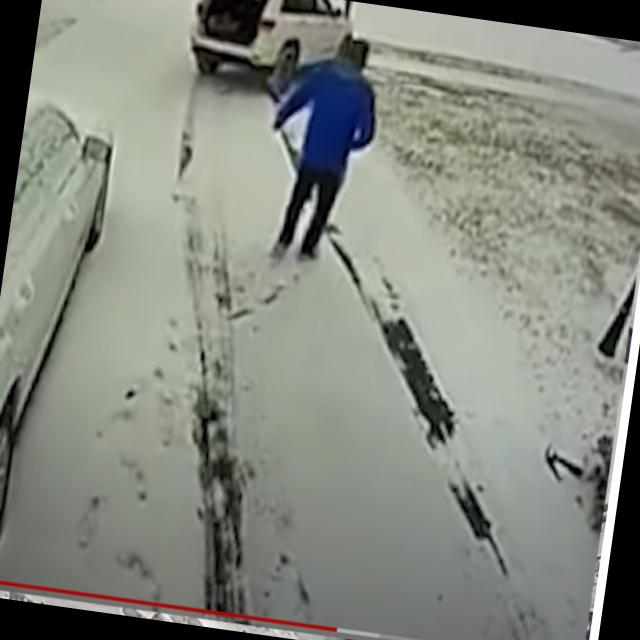person: (250, 27, 389, 264)
